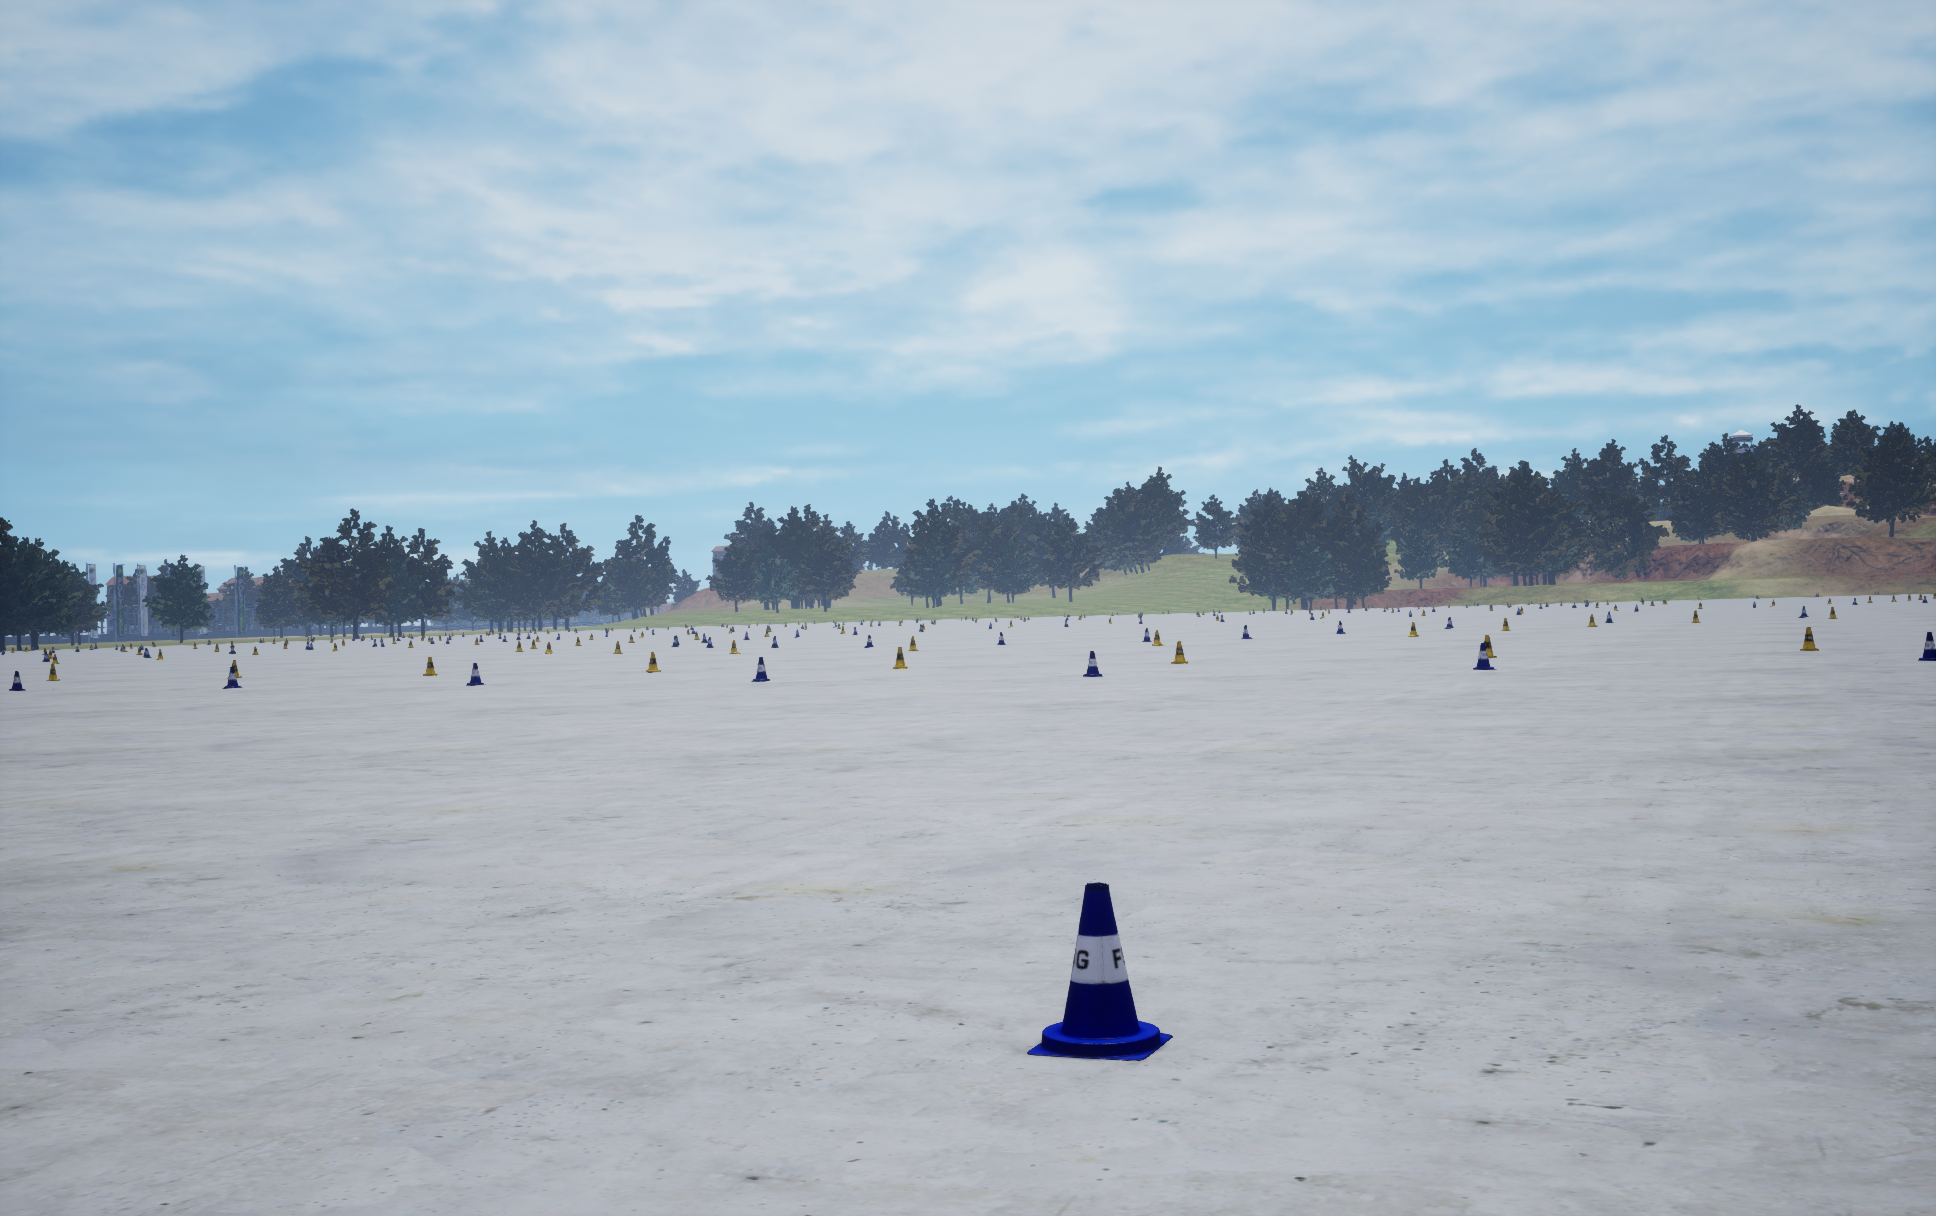blue: (1800, 628, 1818, 650), (1171, 642, 1187, 663), (892, 647, 906, 668), (646, 651, 660, 672), (1484, 635, 1496, 657), (423, 657, 437, 675)
yellow: (1027, 883, 1173, 1060), (1472, 643, 1496, 670), (1083, 651, 1102, 677), (1918, 632, 1935, 660), (221, 667, 242, 688), (751, 657, 769, 681), (466, 663, 485, 685), (8, 671, 25, 691)
